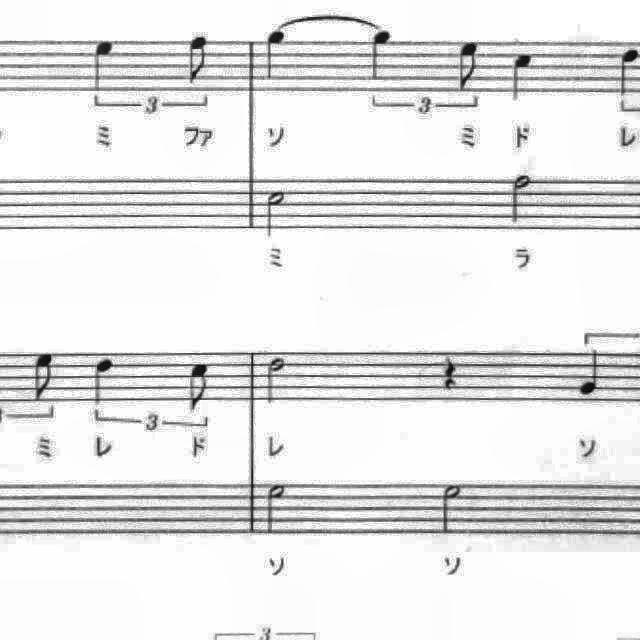Eighth-note: (448, 34, 486, 98), (180, 31, 216, 91), (180, 356, 216, 416), (27, 346, 62, 406)
Half-note: (433, 476, 469, 540), (262, 479, 294, 541), (260, 184, 294, 242), (506, 170, 538, 230), (261, 354, 293, 411)
Quarter-note: (503, 45, 543, 109), (86, 34, 125, 98), (258, 24, 298, 86), (364, 24, 400, 86), (573, 345, 611, 403), (86, 352, 122, 410), (612, 40, 640, 104)
Quarter-rest: (432, 347, 463, 395)
